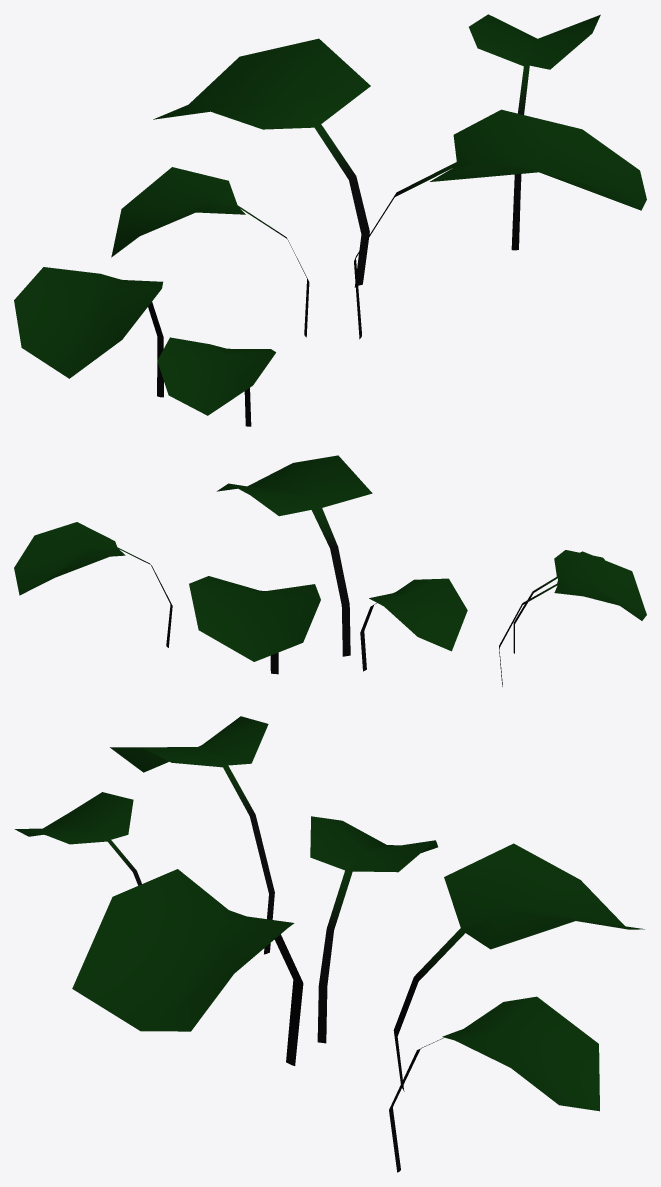
The model's file is GroundIviGCATA_Dense_F.fbx.
3 renders of one model, top to bottom at view 1: azimuth 30°, elevation 25°; view 2: azimuth 150°, elevation 25°; view 3: azimuth 270°, elevation 25°, orthographic. The views are drawn at different scales.
Parts seen in each view (by area): view 1: GIGCATADF_LOD0; view 2: GIGCATADF_LOD0; view 3: GIGCATADF_LOD0.
Boxes of the visible parts, x1,y1,x2,y2 form: GIGCATADF_LOD0: (14, 14, 646, 426); GIGCATADF_LOD0: (14, 455, 646, 686); GIGCATADF_LOD0: (14, 716, 644, 1172).
Size of what is drawn, in the model's own units: 0.8449 by 0.2244 by 0.5922.
